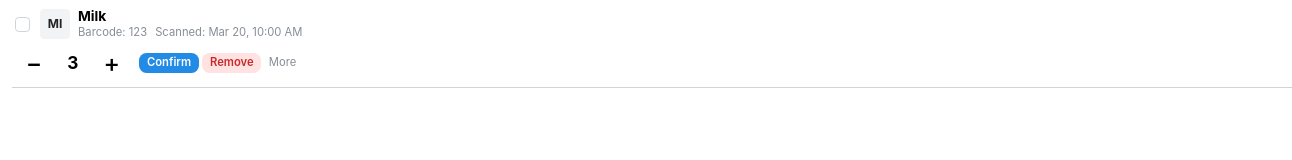
Test: ScanEntryCard direct numeric input › shows error and reverts to previously confirmed count on failed PATCH
Step 1. Replace the text in the field named "Unit count" with "5" → (73, 63), box [56, 41, 90, 85]
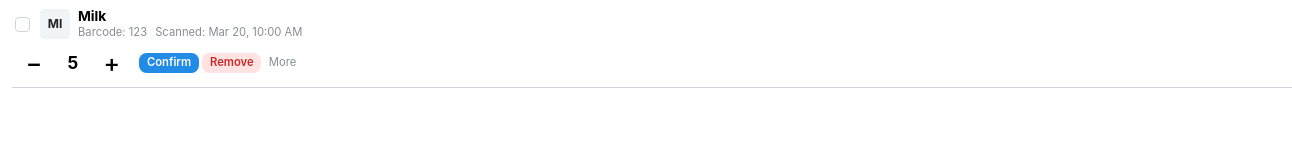
Step 2. Leave the field named "Unit count", box [56, 41, 90, 85]
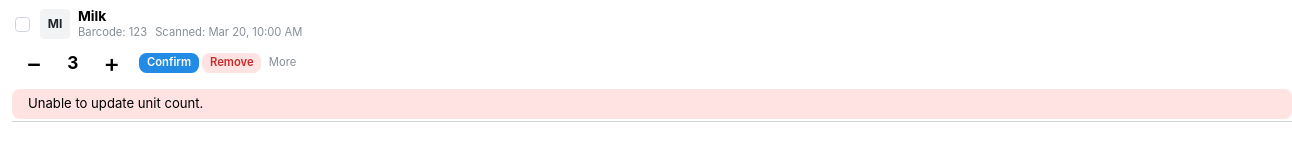
Expected: the message "Unable to update unit count." is shown, [12, 89, 1291, 118]
Expected: the field named "Unit count" holds "3", [56, 41, 90, 85]
